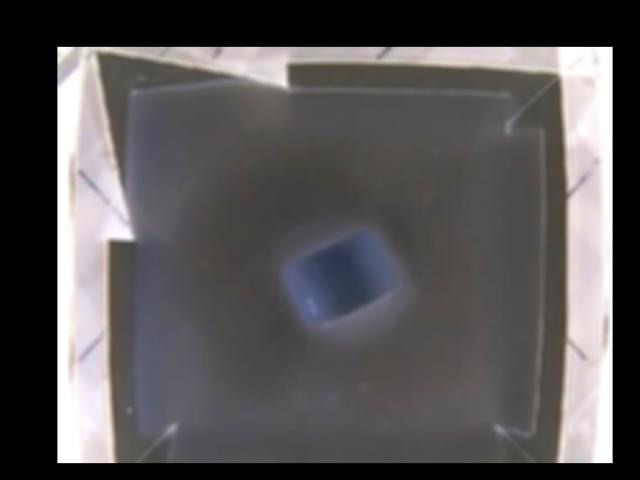Mooli: (287, 226, 399, 327)
